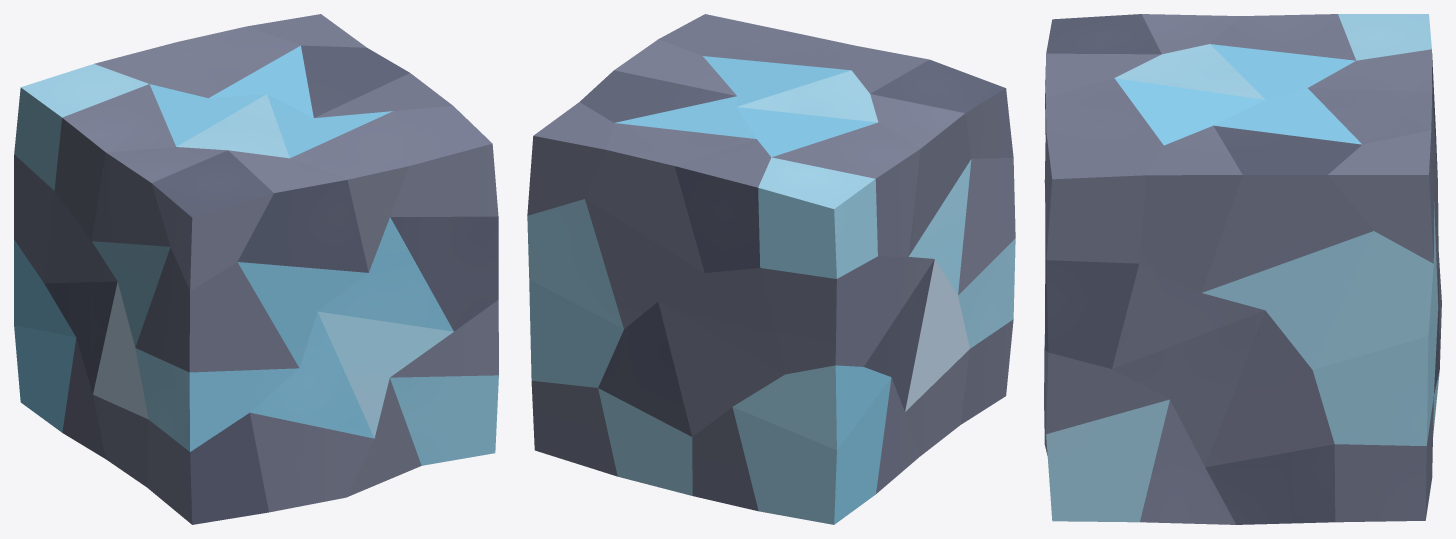
Rendered from blockdiamond.glb.
The picture shows the model from 3 angles, left to right: view 1: azimuth 30°, elevation 25°; view 2: azimuth 150°, elevation 25°; view 3: azimuth 270°, elevation 25°; orthographic projection. The views are drawn at different scales.
Visible parts, largest first — view 1: blockdiamond; view 2: blockdiamond; view 3: blockdiamond.
Part boxes in pixels (box(x1,y1,x2,y2)): blockdiamond: box(14, 14, 498, 524); blockdiamond: box(527, 14, 1015, 524); blockdiamond: box(1044, 14, 1441, 524).
Bounding box in the file's own units: 2.09 × 2.09 × 2.11.
1 material, 1 textured.
